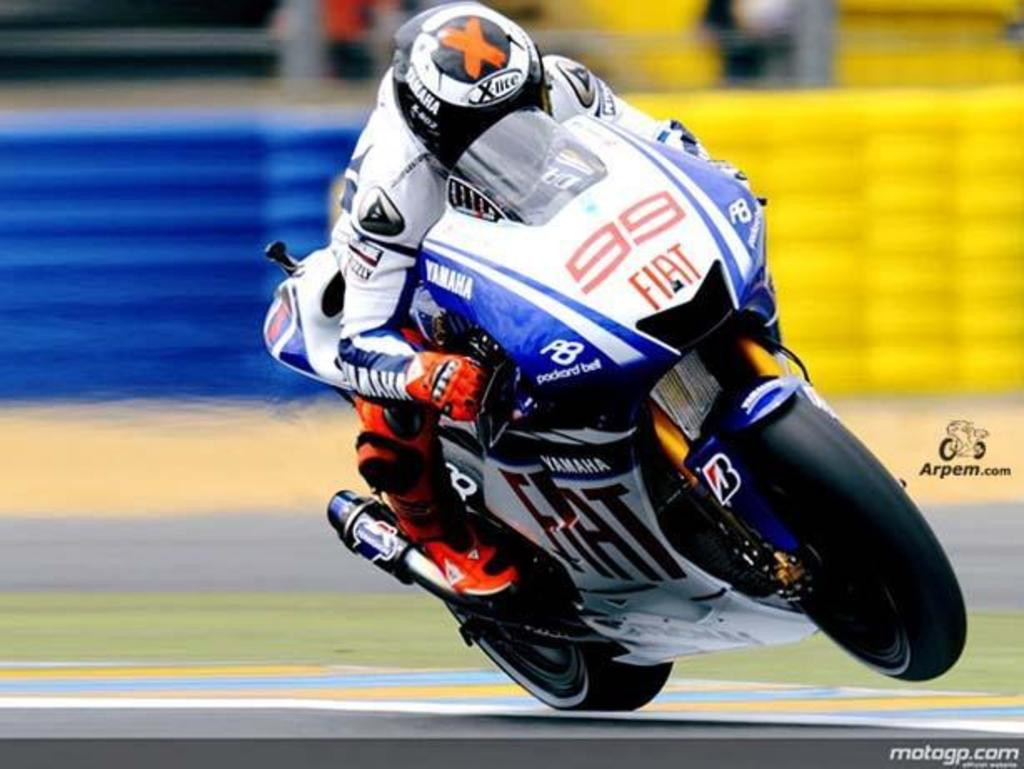Person: (332, 1, 749, 594)
